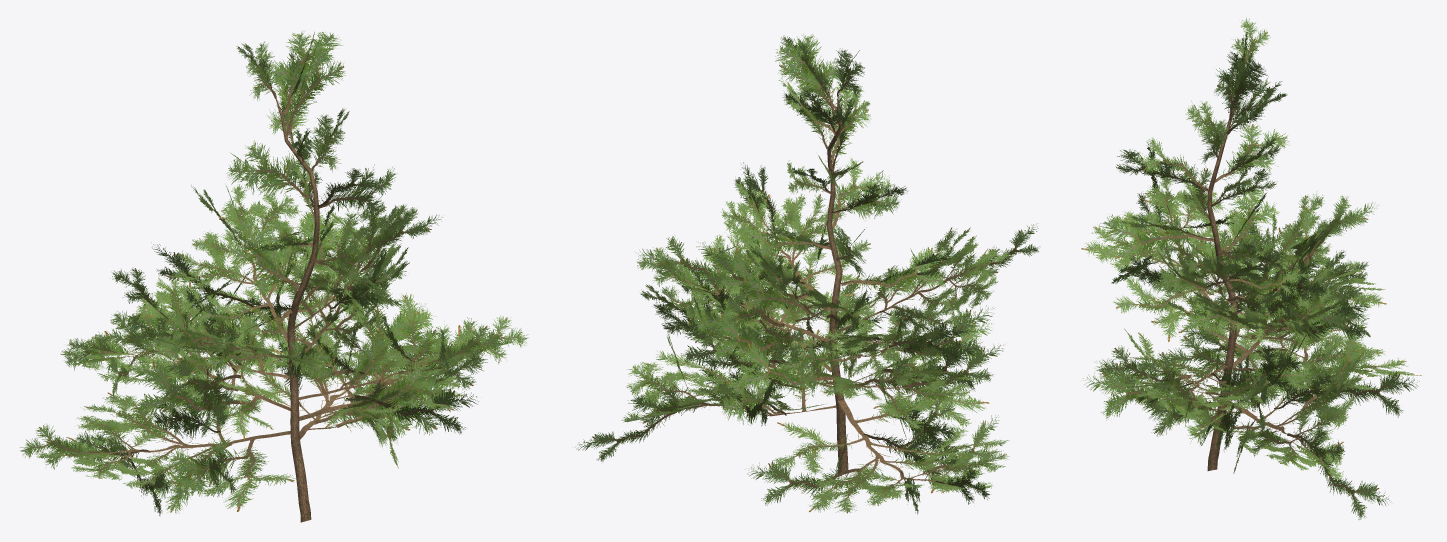
The picture shows the model from 3 angles, left to right: view 1: azimuth 30°, elevation 25°; view 2: azimuth 150°, elevation 25°; view 3: azimuth 270°, elevation 25°; orthographic projection. The views are drawn at different scales.
Visible parts, largest first — view 1: Pine_sapling_1_LOD0_Clusters_Mat_0; view 2: Pine_sapling_1_LOD0_Clusters_Mat_0; view 3: Pine_sapling_1_LOD0_Clusters_Mat_0.
Boxes of the visible parts, x1,y1,x2,y2 form: Pine_sapling_1_LOD0_Clusters_Mat_0: (20, 30, 528, 522); Pine_sapling_1_LOD0_Clusters_Mat_0: (576, 34, 1039, 514); Pine_sapling_1_LOD0_Clusters_Mat_0: (1081, 17, 1421, 519).
Size of the model in its own units: 1.49 by 1.54 by 1.13.
